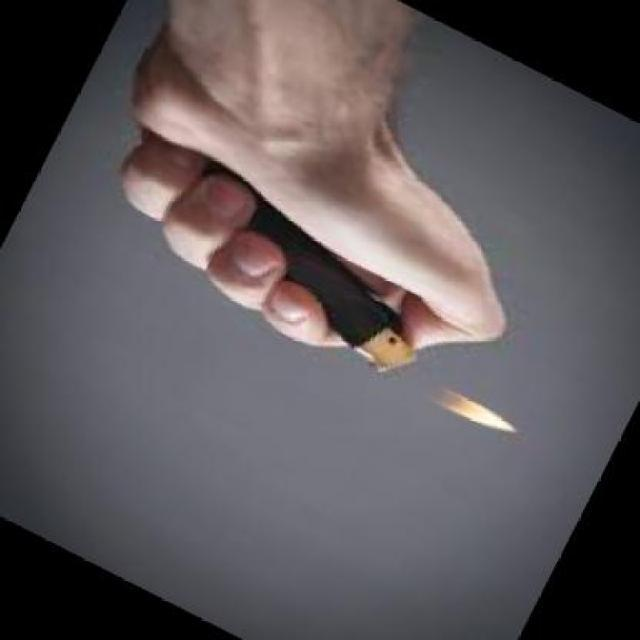Fire: (416, 366, 530, 448)
